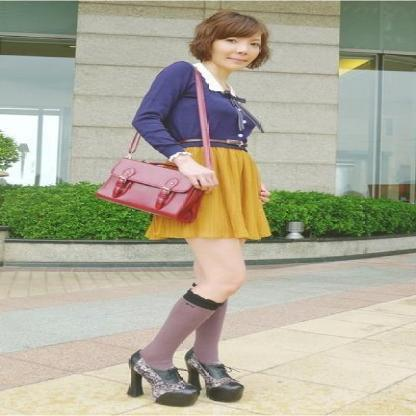bag: (92, 108, 216, 224)
shirt: (132, 59, 261, 158)
shoe: (127, 349, 243, 406)
skirt: (145, 141, 272, 240)
